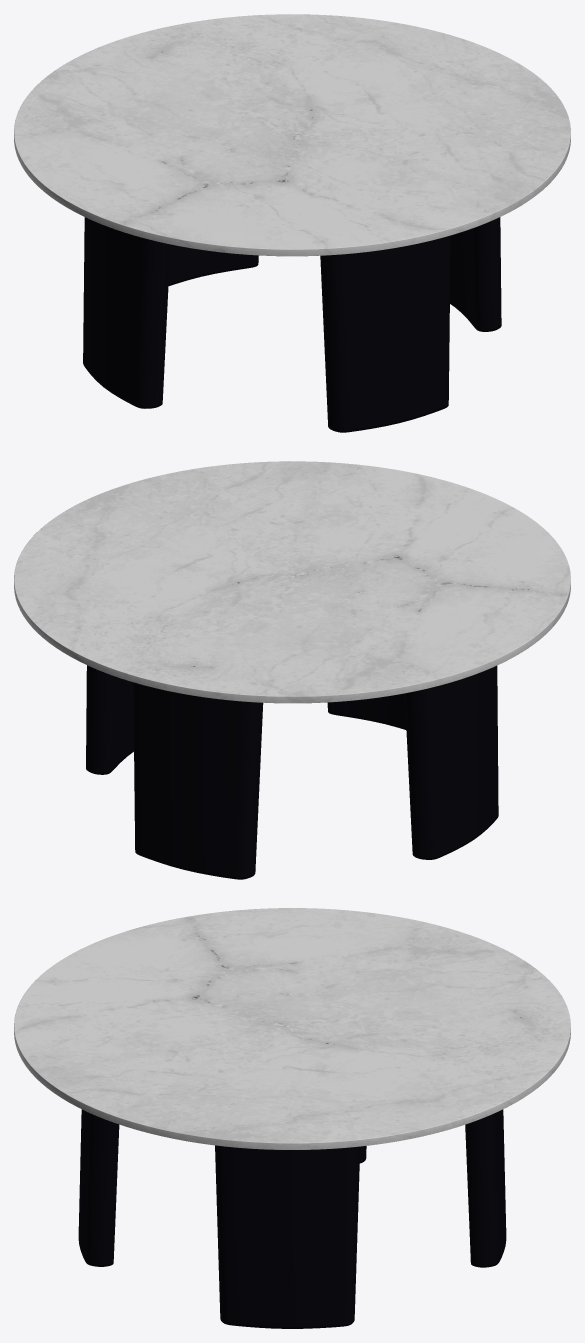
File: table.glb
3 views of the same model, one above another, from view 1: azimuth 30°, elevation 25°; view 2: azimuth 150°, elevation 25°; view 3: azimuth 270°, elevation 25° (orthographic).
Visible parts, largest first — view 1: Table_1; view 2: Table_1; view 3: Table_1.
Boxes of the visible parts, <box> form: Table_1: <box>14,14,570,432</box>; Table_1: <box>14,461,570,879</box>; Table_1: <box>14,908,570,1328</box>.
Bounding box in the file's own units: 1.09 × 0.4583 × 1.09.
Materials: 1 (1 with a texture image).
